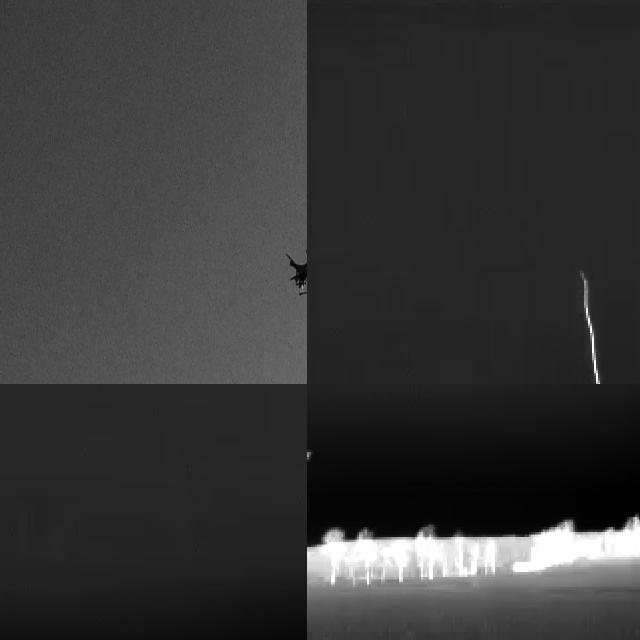1: (307, 440, 323, 478)
drone: (286, 243, 307, 296)
